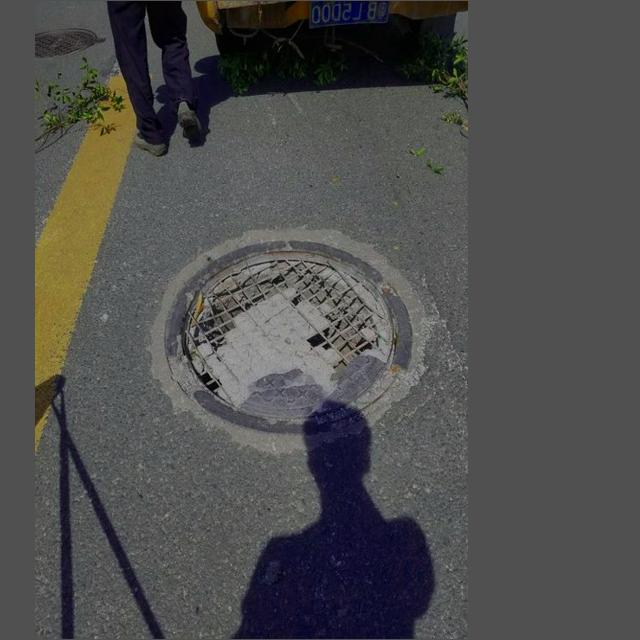broke: (149, 225, 423, 448)
